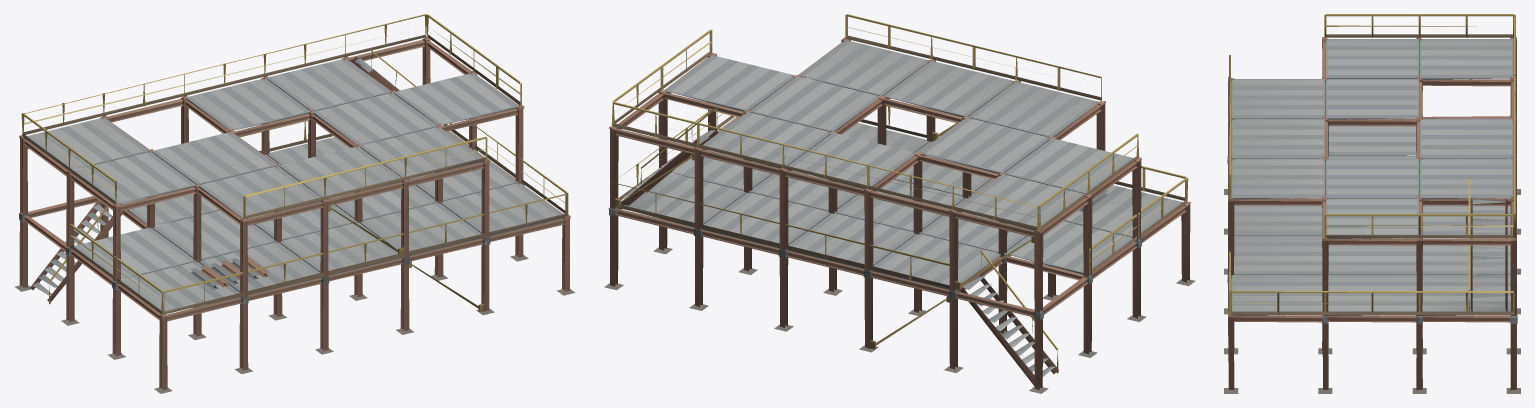
The model's file is frame.lod1.glb.
3 renders of one model, left to right at view 1: azimuth 30°, elevation 25°; view 2: azimuth 150°, elevation 25°; view 3: azimuth 270°, elevation 25°, orthographic. The views are drawn at different scales.
Bounding box in the file's own units: 20.6 × 8.39 × 12.6.
